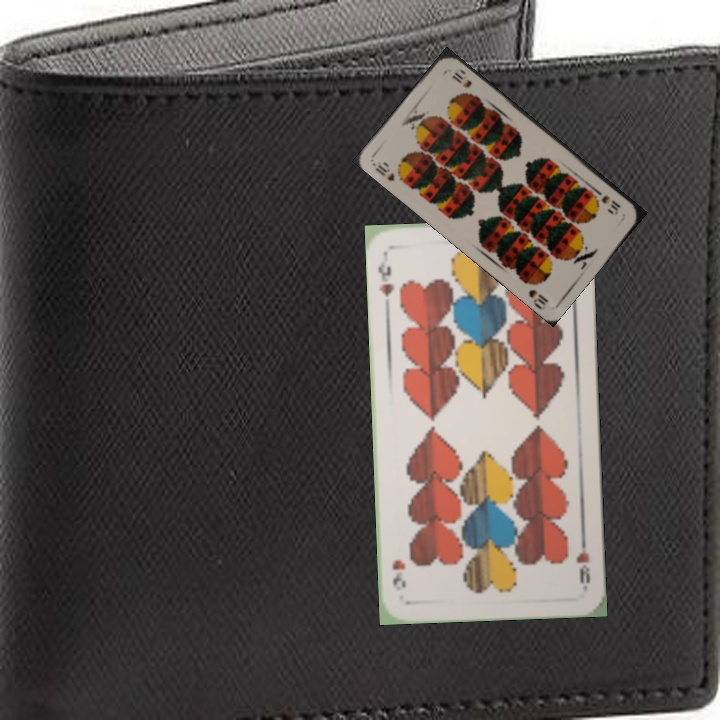H9: (572, 532, 593, 591), (374, 249, 396, 299)
S10: (592, 186, 623, 216), (369, 157, 397, 184)
